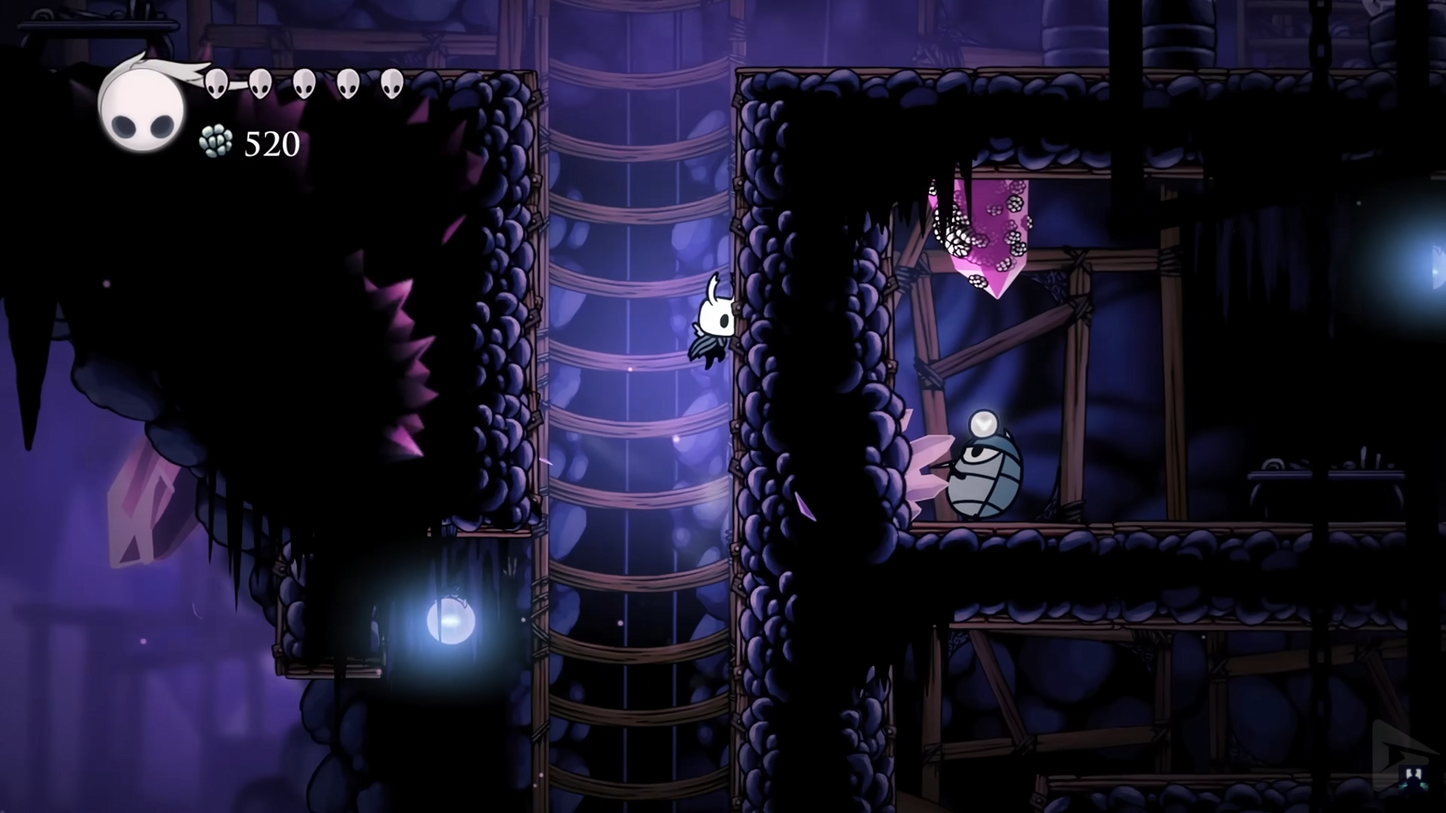HK: (686, 271, 743, 371)
